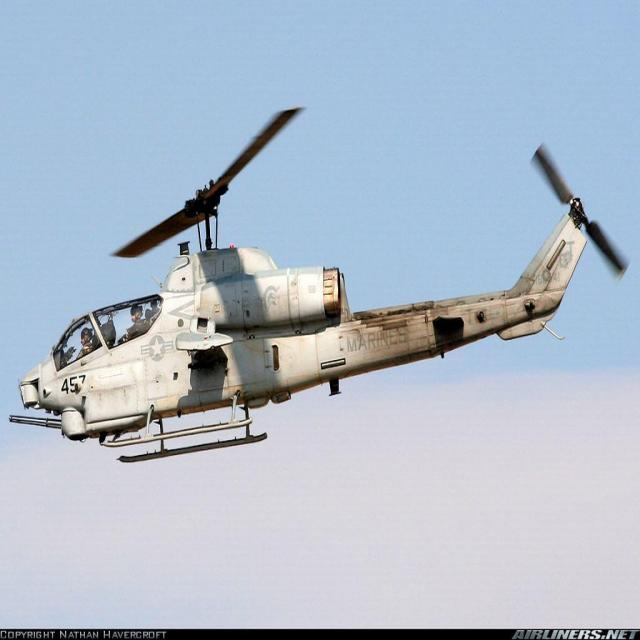MIL_HELO: (2, 93, 640, 481)
